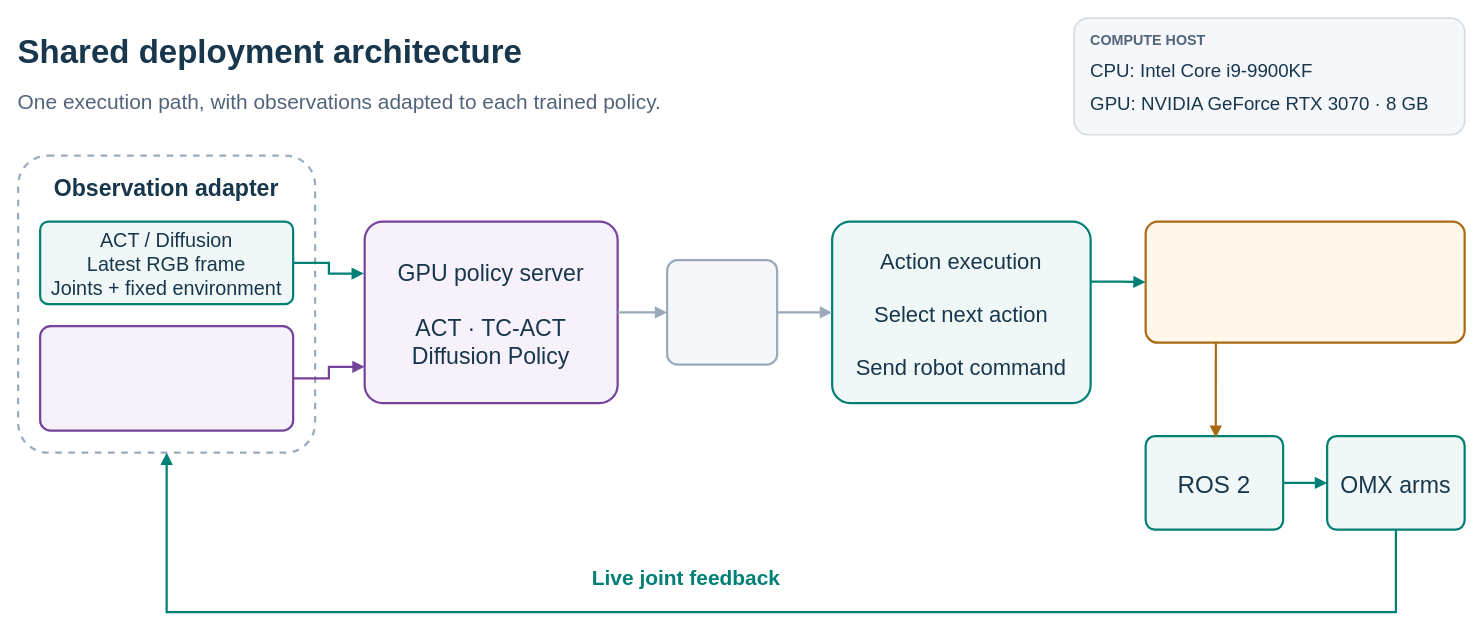
The diagram is 1483 pixels wide and 630 high, and some of its shapes have lost their labels. The centre of each missing label's shape, as x and y in pixels:
Joint / gripper mapping Command bounds: the point at 1304,281
TC-ACT Latest RGB frame Joints + sampled history: the point at 166,377
TCP: the point at 722,311
